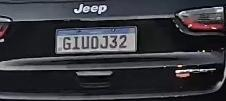Placa_mercosul_carro: (54, 26, 137, 54)
